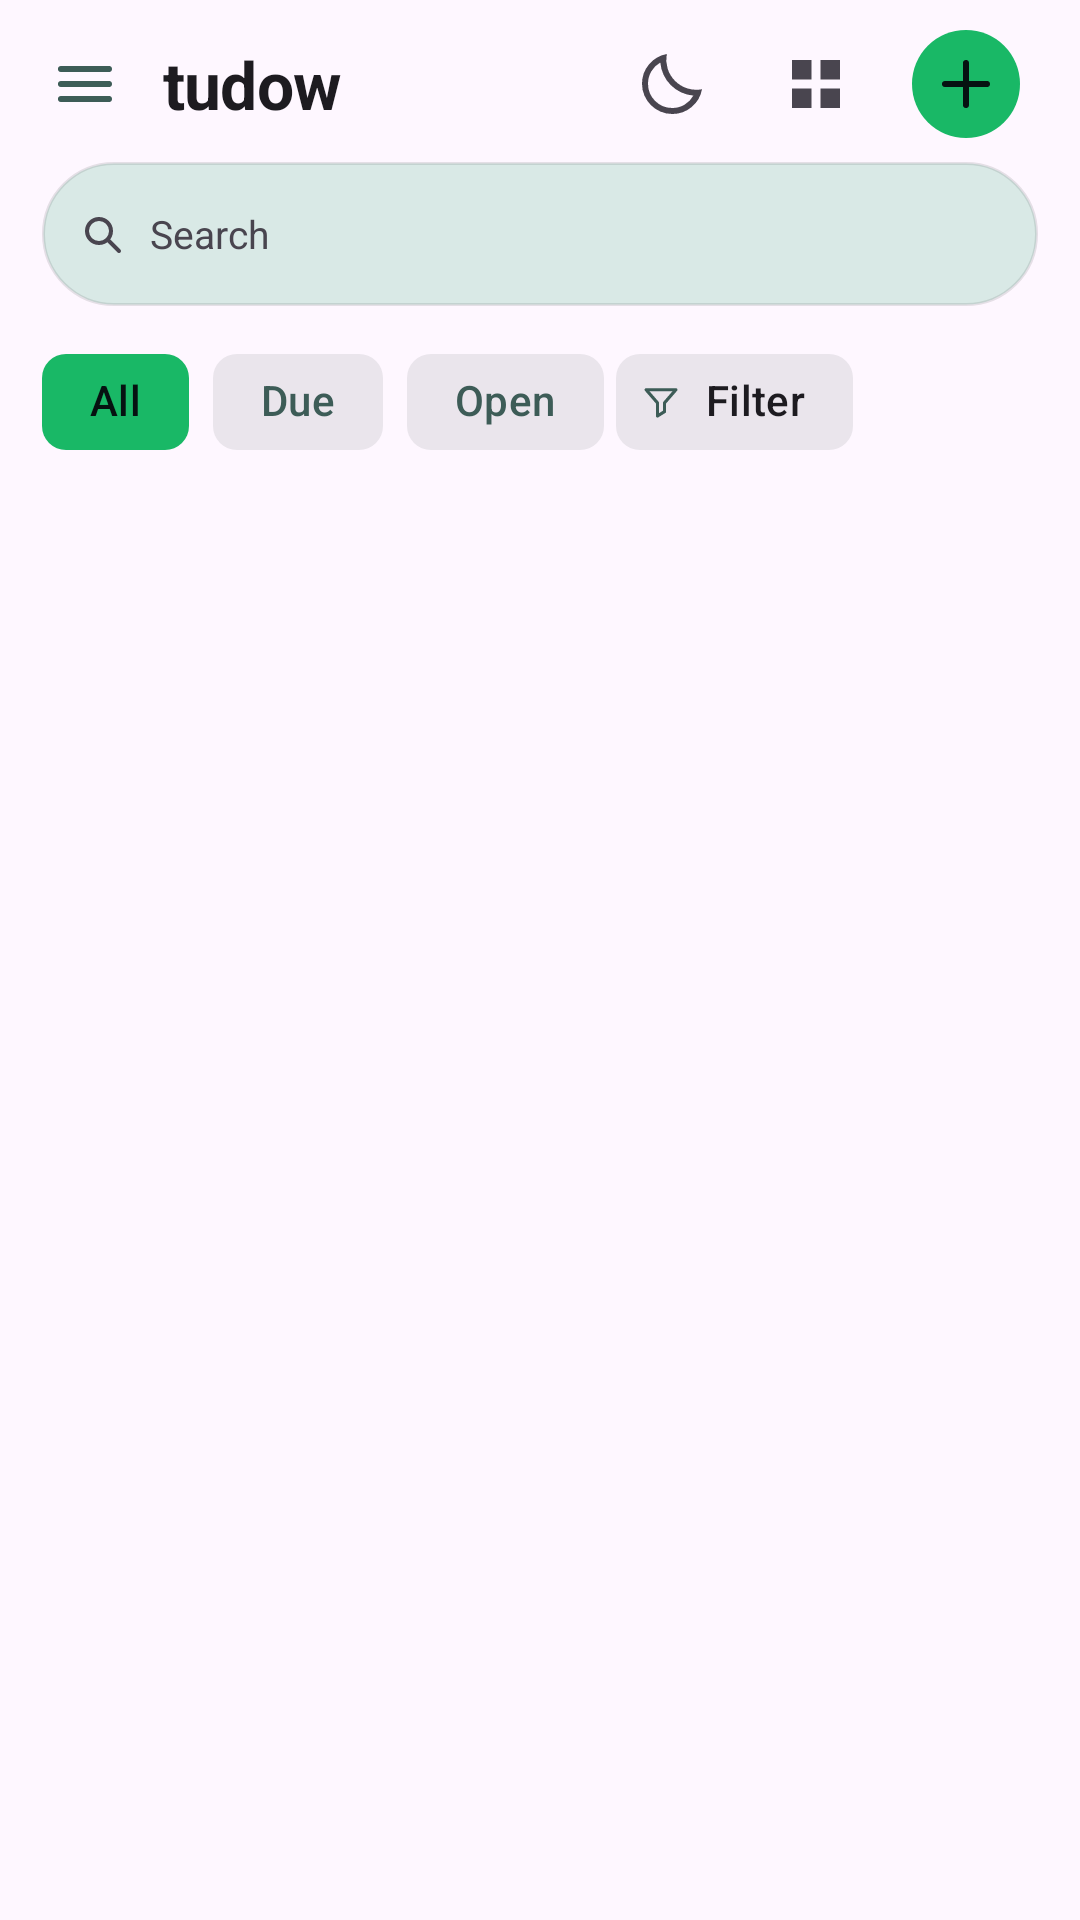

Where to tap for icons on this 1080px x 1920px app screen, as point (x, y):
New note: point (966, 84)
Switch to dark mode: point (672, 84)
Toggle grid or list view: point (816, 84)
